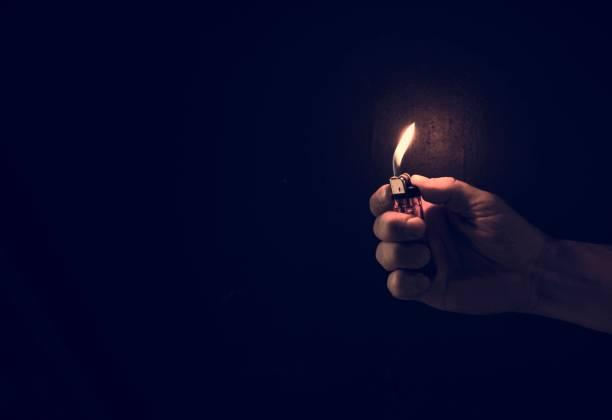Fire: (384, 118, 425, 170)
